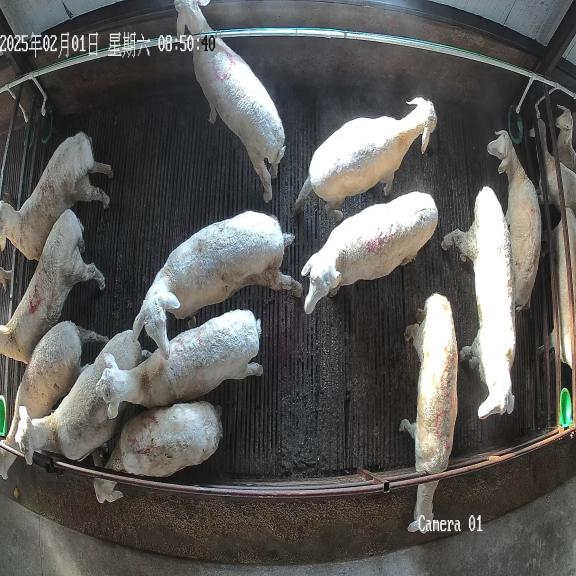eating: (399, 293, 458, 533)
stand: (133, 211, 302, 359), (175, 0, 285, 202), (15, 330, 152, 464), (95, 309, 263, 418), (296, 97, 437, 222), (0, 321, 108, 479), (442, 186, 515, 419), (301, 192, 438, 313), (0, 210, 105, 363), (0, 132, 113, 260), (92, 401, 222, 503), (487, 130, 541, 310)
